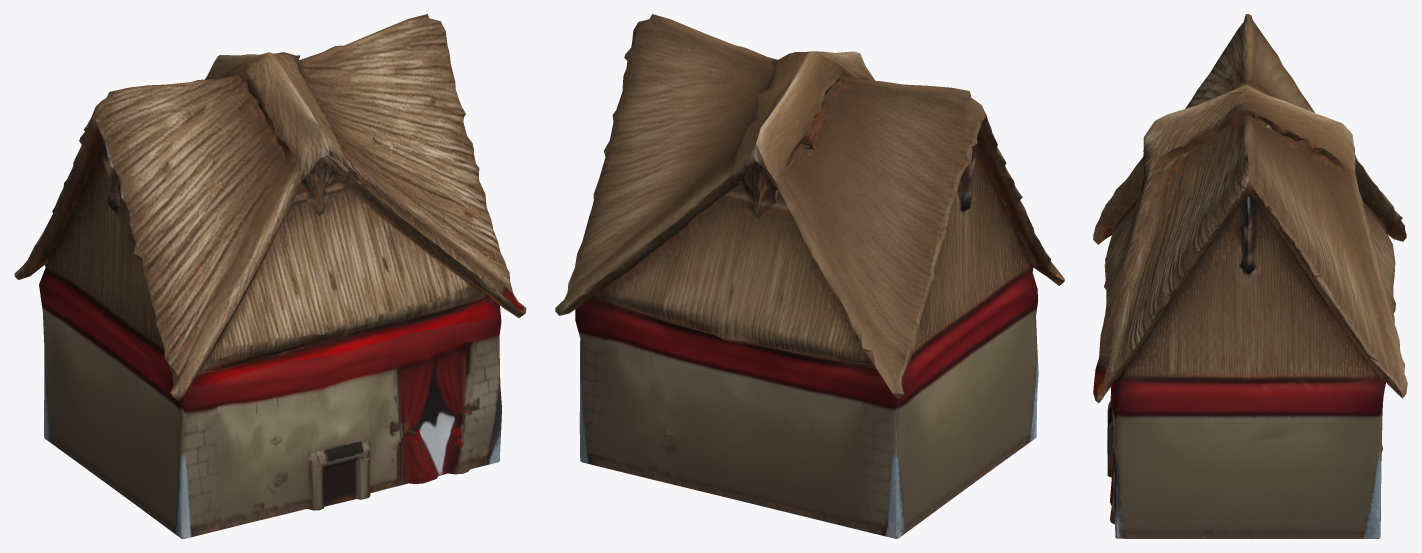
Rendered from palmares_casa.glb.
3 renders of one model, left to right at view 1: azimuth 30°, elevation 25°; view 2: azimuth 150°, elevation 25°; view 3: azimuth 270°, elevation 25°, orthographic. The views are drawn at different scales.
Parts seen in each view (by area): view 1: geometry_0; view 2: geometry_0; view 3: geometry_0.
Part boxes in pixels (x1,y1,x2,y2): geometry_0: [14, 14, 526, 538]; geometry_0: [555, 14, 1064, 538]; geometry_0: [1093, 14, 1407, 538].
Size of the model in its own units: 1.4 by 1.5 by 1.13.
Materials: 1 (1 with a texture image).
